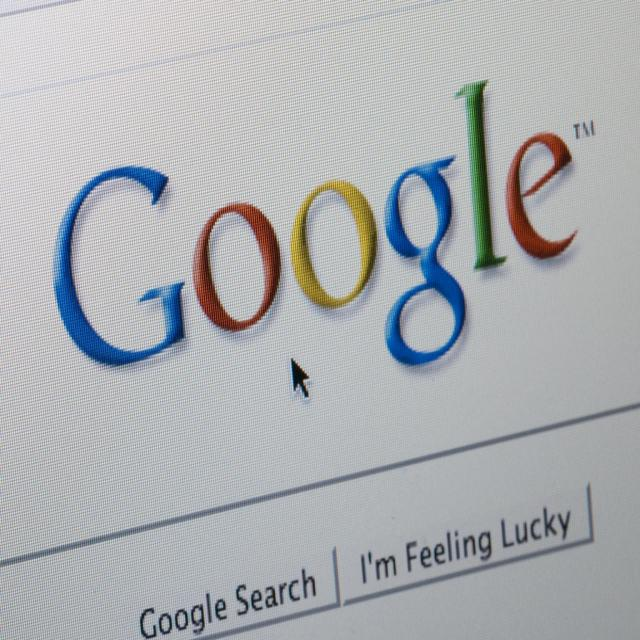google: (50, 73, 590, 379)
